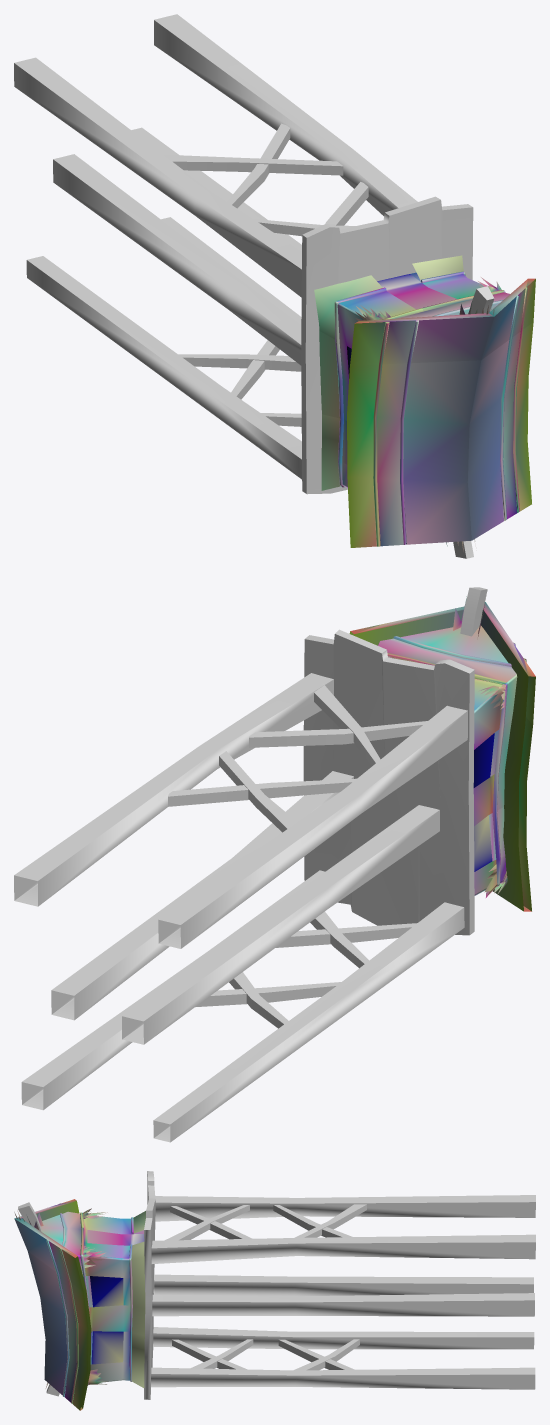
File: Hut_A_lit.glb
3 views of the same model, one above another, from view 1: azimuth 30°, elevation 25°; view 2: azimuth 150°, elevation 25°; view 3: azimuth 270°, elevation 25° (orthographic). The views are drawn at different scales.
Visible parts, largest first — view 1: MeshNode_1, MeshNode_0; view 2: MeshNode_1, MeshNode_0; view 3: MeshNode_1, MeshNode_0.
Boxes of the visible parts, x1,y1,x2,y2 form: MeshNode_1: (14,14,494,558); MeshNode_0: (314,255,535,551); MeshNode_1: (14,587,487,1142); MeshNode_0: (349,596,535,911); MeshNode_1: (18,1171,535,1399); MeshNode_0: (14,1199,145,1410).
Size of the model in its own units: 7.82 by 11.89 by 28.29.
